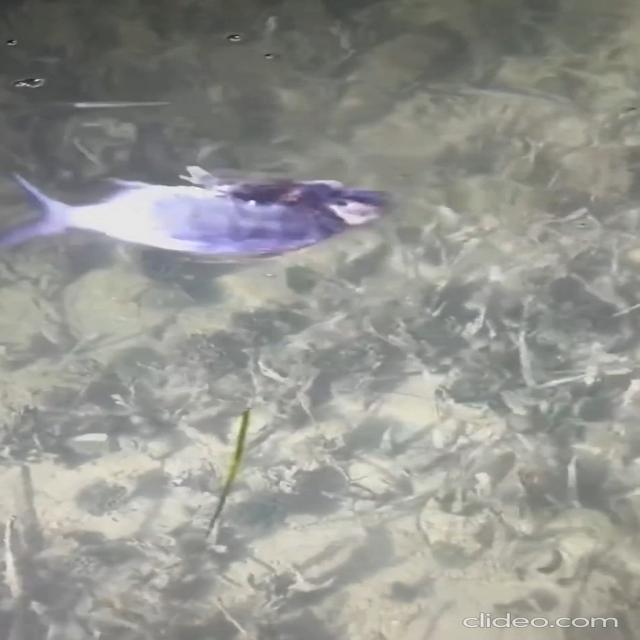fish: (3, 175, 428, 268)
